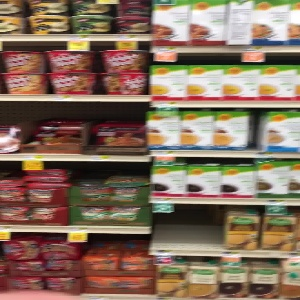void: (150, 202, 222, 249)
